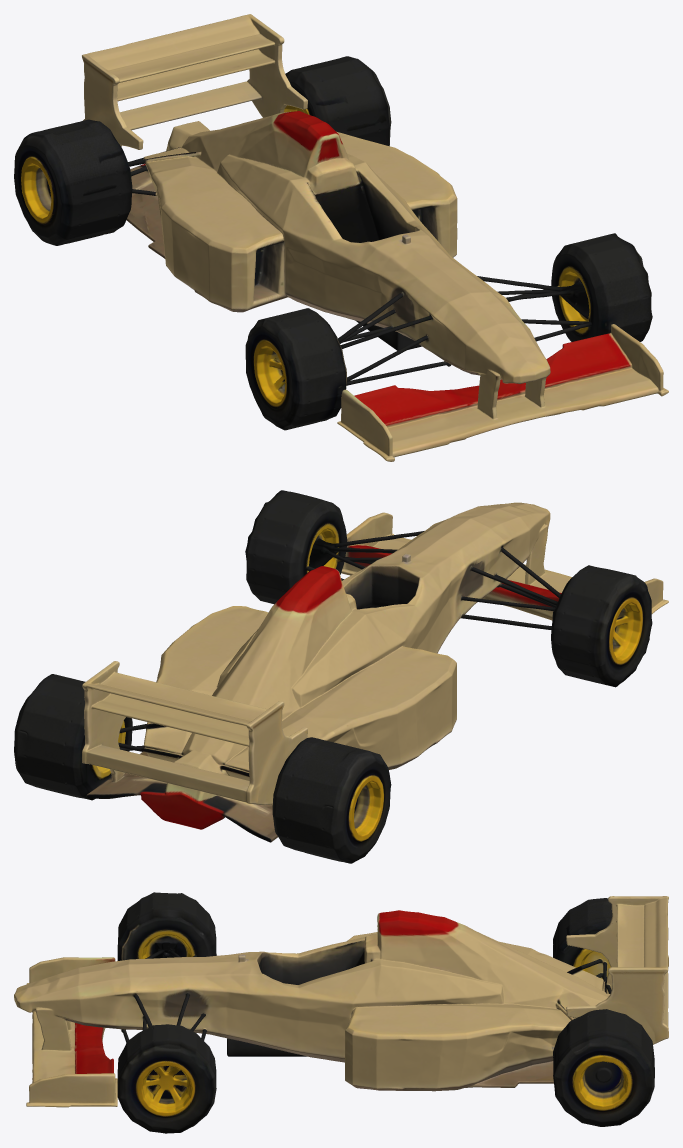
3 views of the same model, one above another, from view 1: azimuth 30°, elevation 25°; view 2: azimuth 150°, elevation 25°; view 3: azimuth 270°, elevation 25° (orthographic). The views are drawn at different scales.
Visible parts, largest first — view 1: tripo_node_ac0c0579-0fa9-41cd-8b3f-004fa39c1d8d; view 2: tripo_node_ac0c0579-0fa9-41cd-8b3f-004fa39c1d8d; view 3: tripo_node_ac0c0579-0fa9-41cd-8b3f-004fa39c1d8d.
Boxes of the visible parts, x1,y1,x2,y2 form: tripo_node_ac0c0579-0fa9-41cd-8b3f-004fa39c1d8d: (14, 14, 668, 461); tripo_node_ac0c0579-0fa9-41cd-8b3f-004fa39c1d8d: (14, 490, 668, 863); tripo_node_ac0c0579-0fa9-41cd-8b3f-004fa39c1d8d: (14, 892, 668, 1133).
Size of the model in its own units: 0.5624 by 0.2454 by 1.
1 material, 1 textured.
